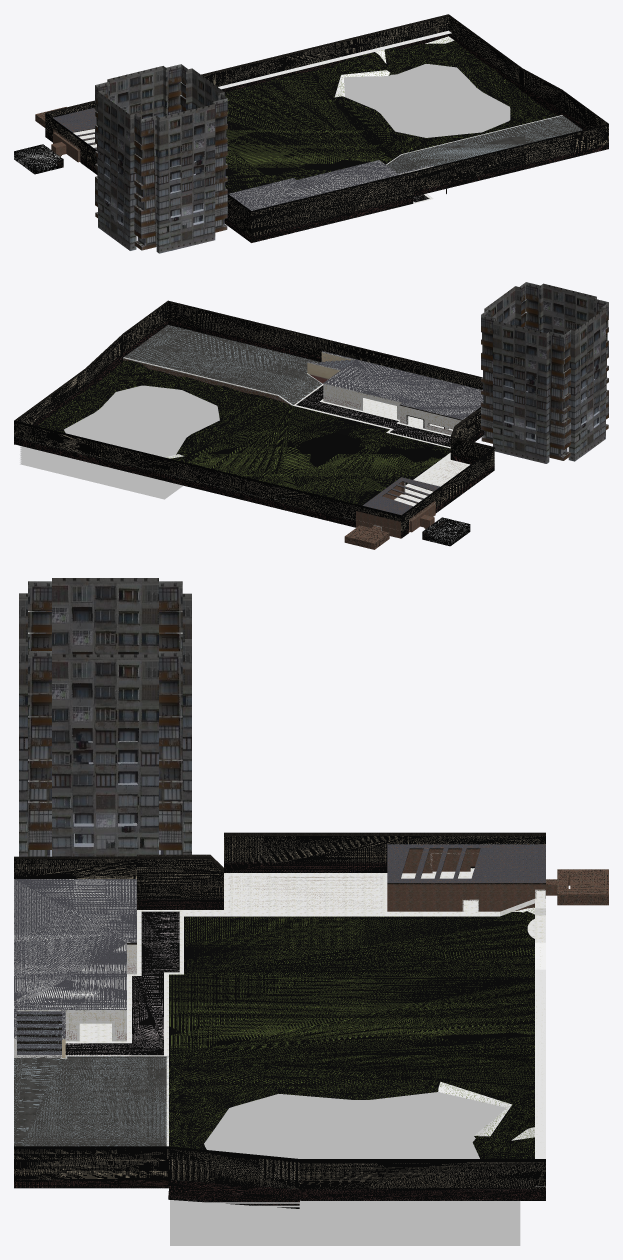
3 views of the same model, one above another, from view 1: azimuth 30°, elevation 25°; view 2: azimuth 150°, elevation 25°; view 3: azimuth 270°, elevation 25° (orthographic). The views are drawn at different scales.
Visible parts, largest first — view 1: group_0 (×11), group_2, group_1; view 2: group_0 (×17), group_2, group_1 (×10); view 3: group_0 (×15), group_2, group_1 (×13).
Part boxes in pixels (x1,y1,x2,y2): group_0 (×11): (14, 14, 608, 242); group_2: (95, 64, 227, 253); group_1: (344, 64, 510, 137); group_0 (×17): (14, 300, 494, 549); group_2: (481, 282, 608, 463); group_1 (×10): (20, 385, 219, 499); group_0 (×15): (14, 832, 608, 1208); group_2: (19, 578, 191, 856); group_1 (×13): (170, 1092, 520, 1245).
Bounding box in the file's own units: 2631 × 1742 × 937.
